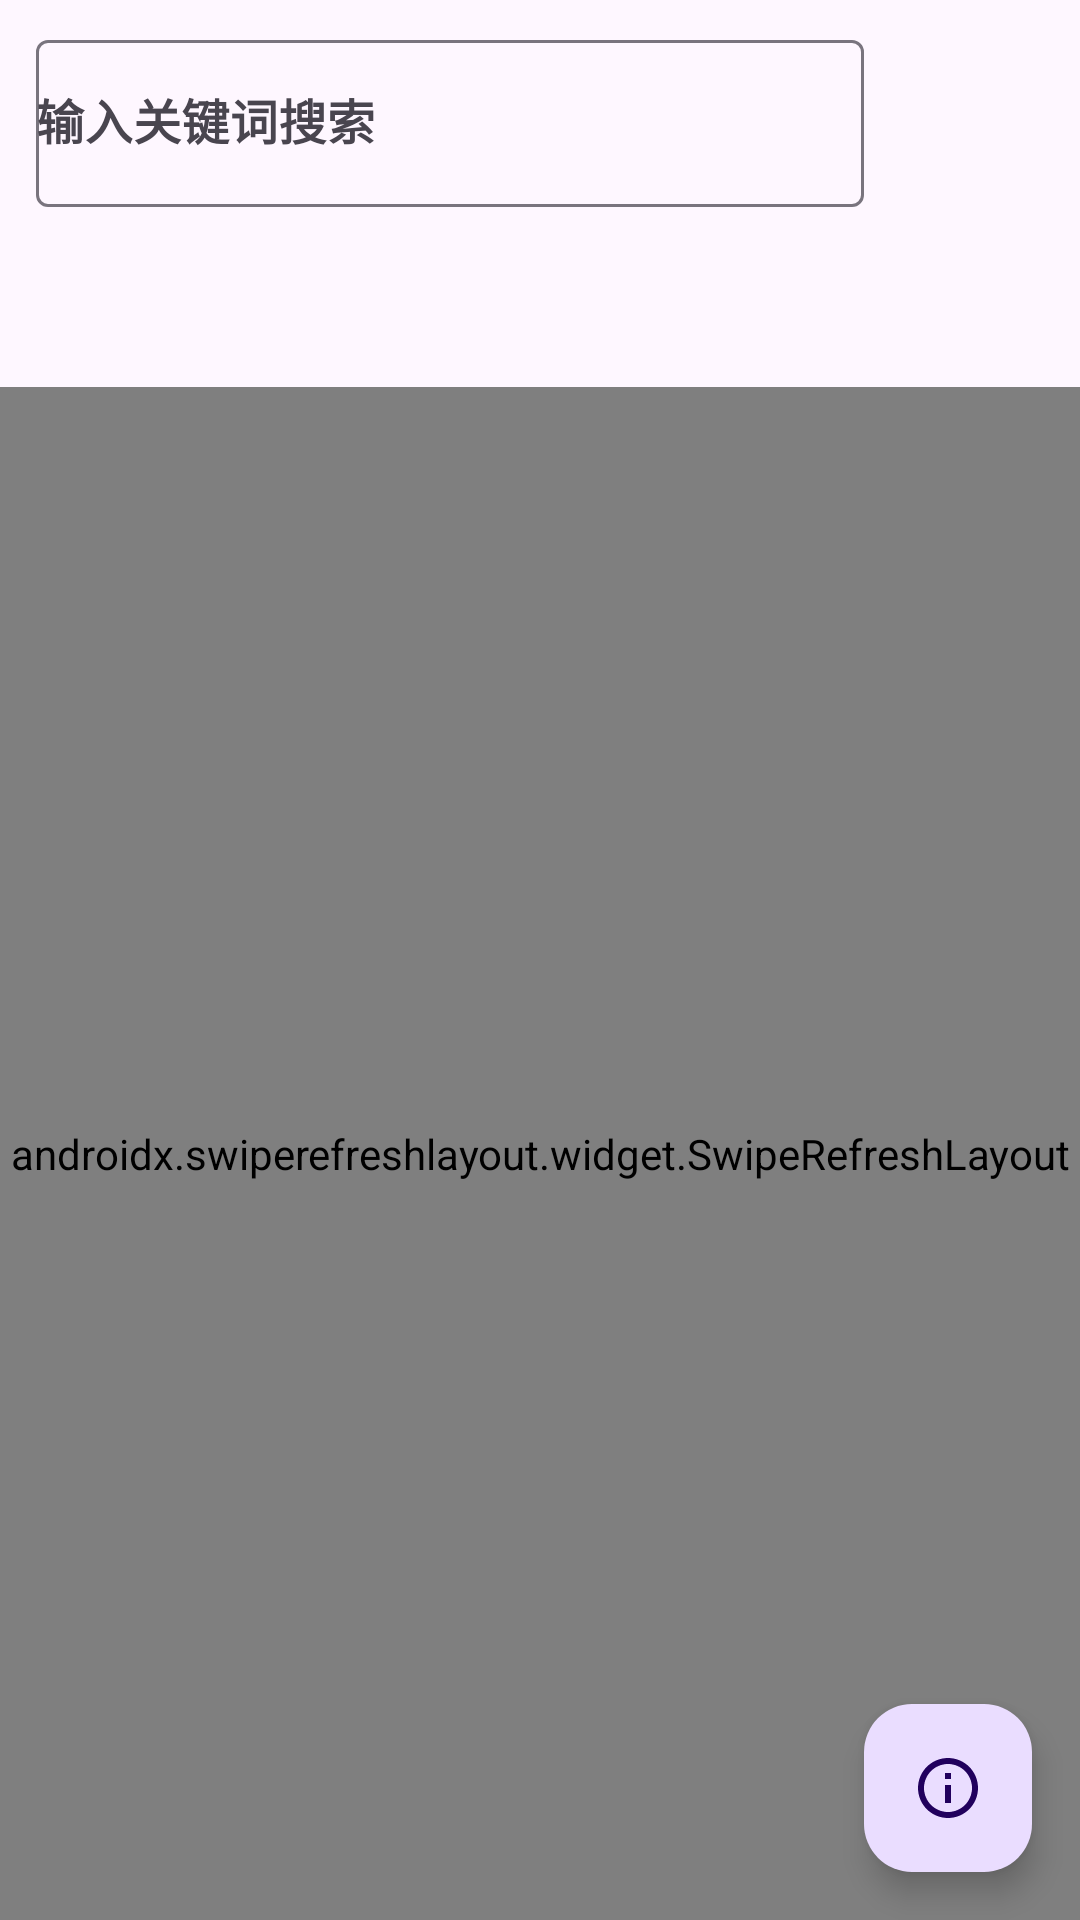

Point at icon controls on the screen. Image size 1080 × 1920, points as (x=x, y=y).
info: (x=948, y=1788)
